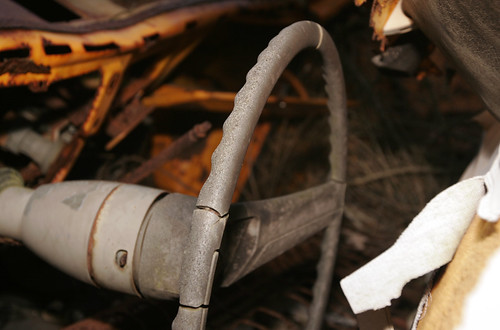car: (37, 1, 487, 330)
